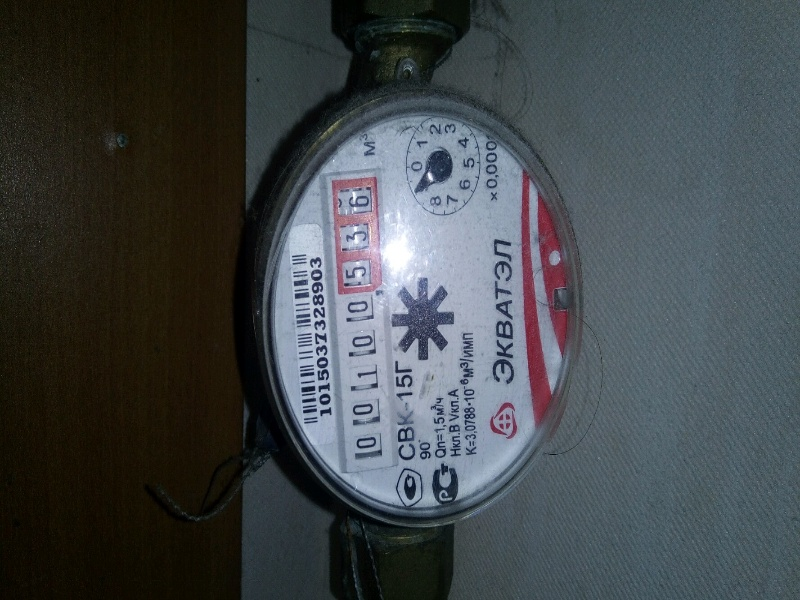meter: (330, 184, 391, 485)
